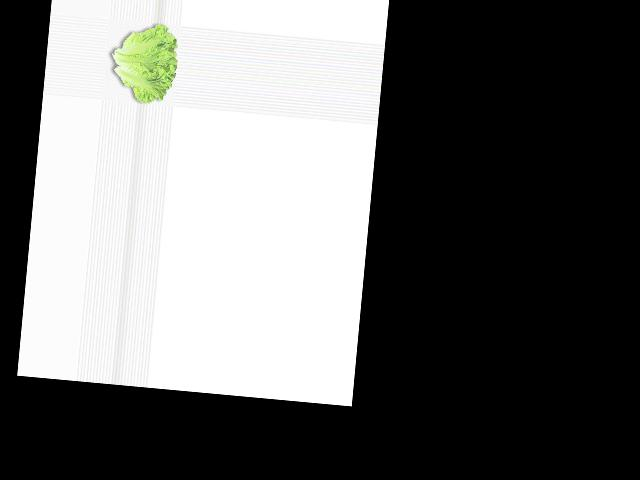lettuce: (106, 21, 180, 107)
